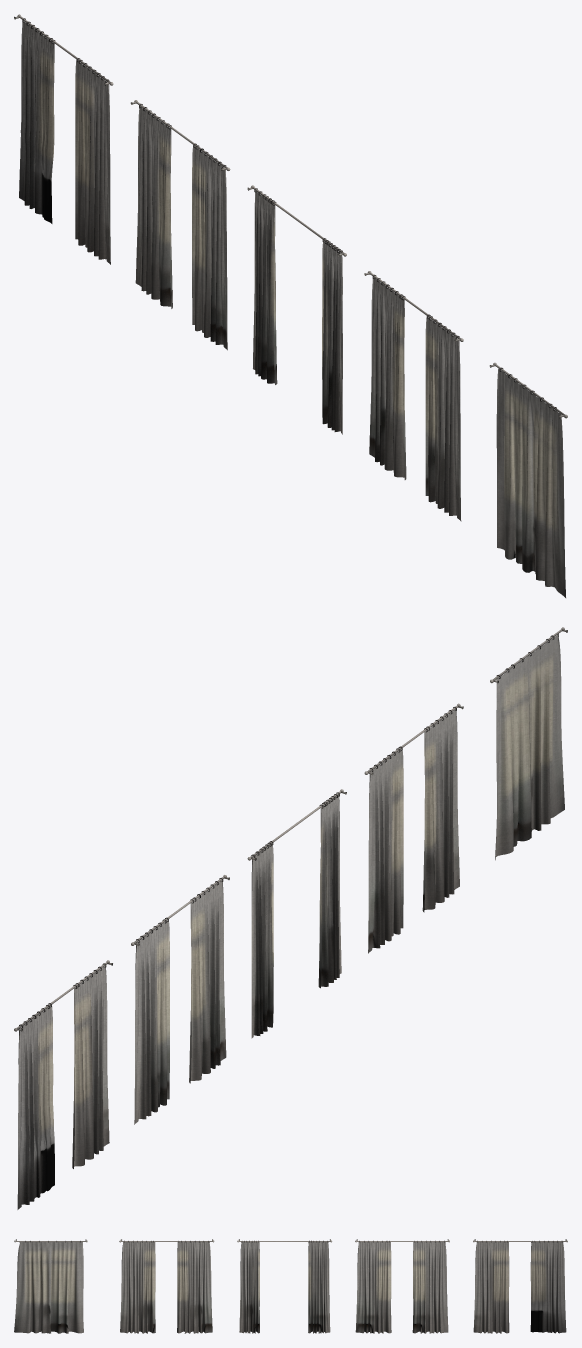
Rendered from Curtains.fbx.
The picture shows the model from 3 angles, top to bottom: view 1: azimuth 30°, elevation 25°; view 2: azimuth 150°, elevation 25°; view 3: azimuth 270°, elevation 25°; orthographic projection. The views are drawn at different scales.
Visible parts, largest first — view 1: Curtinas.002_Cortinas/mesa/tubos_0, Curtinas.004_Cortinas/mesa/tubos_0, Curtinas_Cortinas/mesa/tubos_0, Curtinas.001_Cortinas/mesa/tubos_0, Curtinas.003_Cortinas/mesa/tubos_0; view 2: Curtinas_Cortinas/mesa/tubos_0, Curtinas.002_Cortinas/mesa/tubos_0, Curtinas.004_Cortinas/mesa/tubos_0, Curtinas.001_Cortinas/mesa/tubos_0, Curtinas.003_Cortinas/mesa/tubos_0; view 3: Curtinas.002_Cortinas/mesa/tubos_0, Curtinas.004_Cortinas/mesa/tubos_0, Curtinas_Cortinas/mesa/tubos_0, Curtinas.001_Cortinas/mesa/tubos_0, Curtinas.003_Cortinas/mesa/tubos_0.
Boxes of the visible parts, bbox=[...] form: Curtinas.002_Cortinas/mesa/tubos_0: bbox=[364, 271, 463, 521]; Curtinas.004_Cortinas/mesa/tubos_0: bbox=[130, 100, 230, 350]; Curtinas_Cortinas/mesa/tubos_0: bbox=[14, 14, 113, 264]; Curtinas.001_Cortinas/mesa/tubos_0: bbox=[489, 362, 567, 597]; Curtinas.003_Cortinas/mesa/tubos_0: bbox=[247, 185, 346, 434]; Curtinas_Cortinas/mesa/tubos_0: bbox=[14, 960, 112, 1209]; Curtinas.002_Cortinas/mesa/tubos_0: bbox=[364, 703, 463, 953]; Curtinas.004_Cortinas/mesa/tubos_0: bbox=[131, 875, 229, 1124]; Curtinas.001_Cortinas/mesa/tubos_0: bbox=[490, 627, 567, 860]; Curtinas.003_Cortinas/mesa/tubos_0: bbox=[247, 789, 346, 1038]; Curtinas.002_Cortinas/mesa/tubos_0: bbox=[119, 1239, 214, 1333]; Curtinas.004_Cortinas/mesa/tubos_0: bbox=[355, 1239, 449, 1333]; Curtinas_Cortinas/mesa/tubos_0: bbox=[473, 1239, 567, 1333]; Curtinas.001_Cortinas/mesa/tubos_0: bbox=[14, 1239, 87, 1333]; Curtinas.003_Cortinas/mesa/tubos_0: bbox=[237, 1239, 332, 1333].
Size of the model in its own units: 13.04 by 251 by 1361.
Materials: 1 (1 with a texture image).
